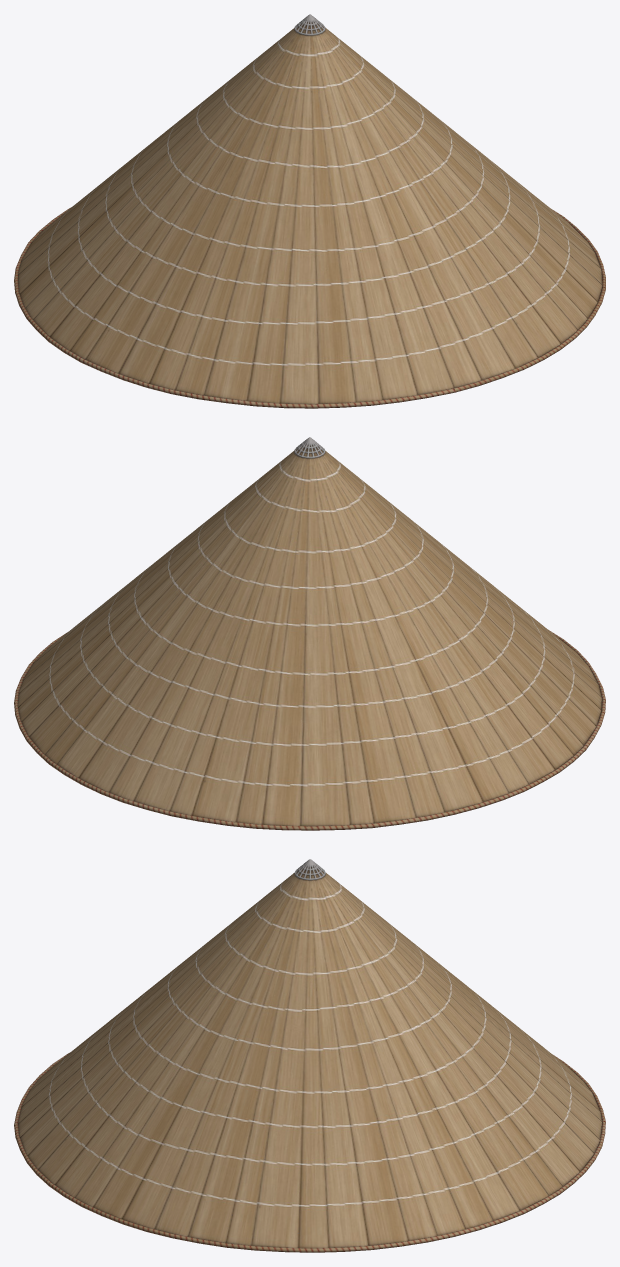
File: leaf_hat.glb
3 renders of one model, top to bottom at view 1: azimuth 30°, elevation 25°; view 2: azimuth 150°, elevation 25°; view 3: azimuth 270°, elevation 25°, orthographic.
Visible parts, largest first — view 1: soften_normals2; view 2: soften_normals2; view 3: soften_normals2.
Part boxes in pixels (<box>): soften_normals2: <box>14,14,605,408</box>; soften_normals2: <box>14,437,605,830</box>; soften_normals2: <box>14,859,605,1252</box>.
Size of the model in its own units: 2.01 by 1.01 by 2.01.
1 material, 1 textured.
